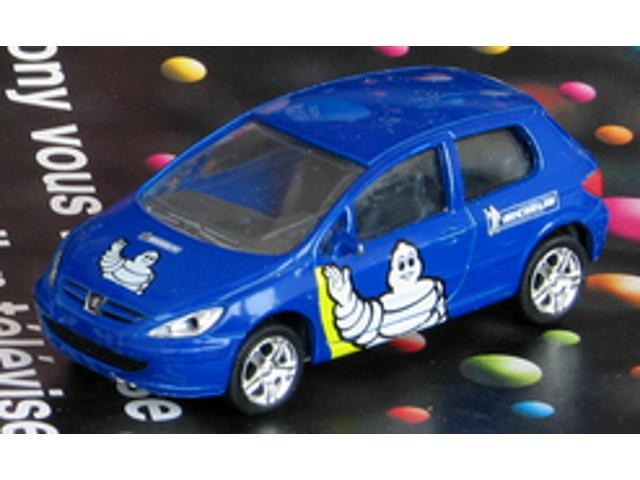toy-car: (32, 64, 609, 418)
